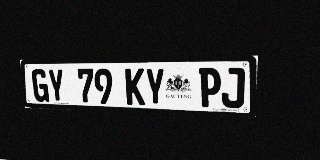7: (76, 69, 95, 104)
9: (94, 68, 113, 104)
G: (31, 69, 49, 102)
J: (221, 68, 245, 108)
K: (125, 68, 145, 105)
P: (199, 68, 221, 108)
Y: (145, 68, 165, 106), (47, 69, 66, 103)
